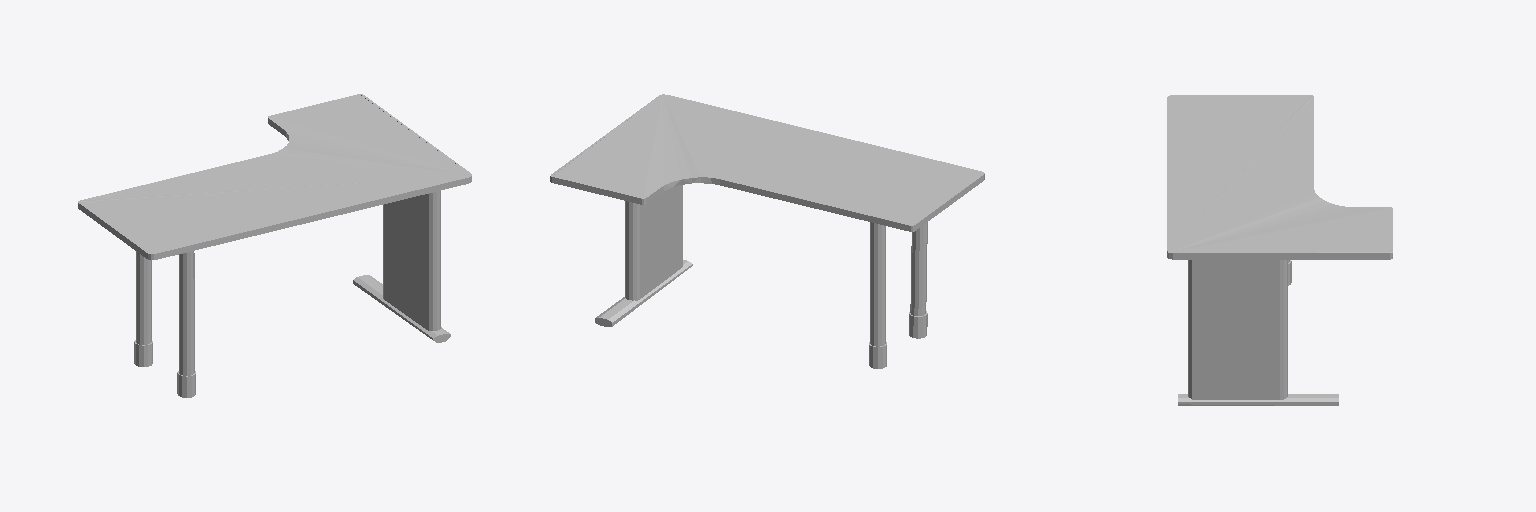
The model's file is deskMod.obj.
3 renders of one model, left to right at view 1: azimuth 30°, elevation 25°; view 2: azimuth 150°, elevation 25°; view 3: azimuth 270°, elevation 25°, orthographic.
Visible parts, largest first — view 1: group[number redacted]; view 2: group[number redacted]; view 3: group[number redacted].
Boxes of the visible parts, <box> form: group[number redacted]: <box>78,94,471,397</box>; group[number redacted]: <box>550,94,984,368</box>; group[number redacted]: <box>1167,95,1392,405</box>.
Size of the model in its own units: 2.19 by 1.06 by 1.32.